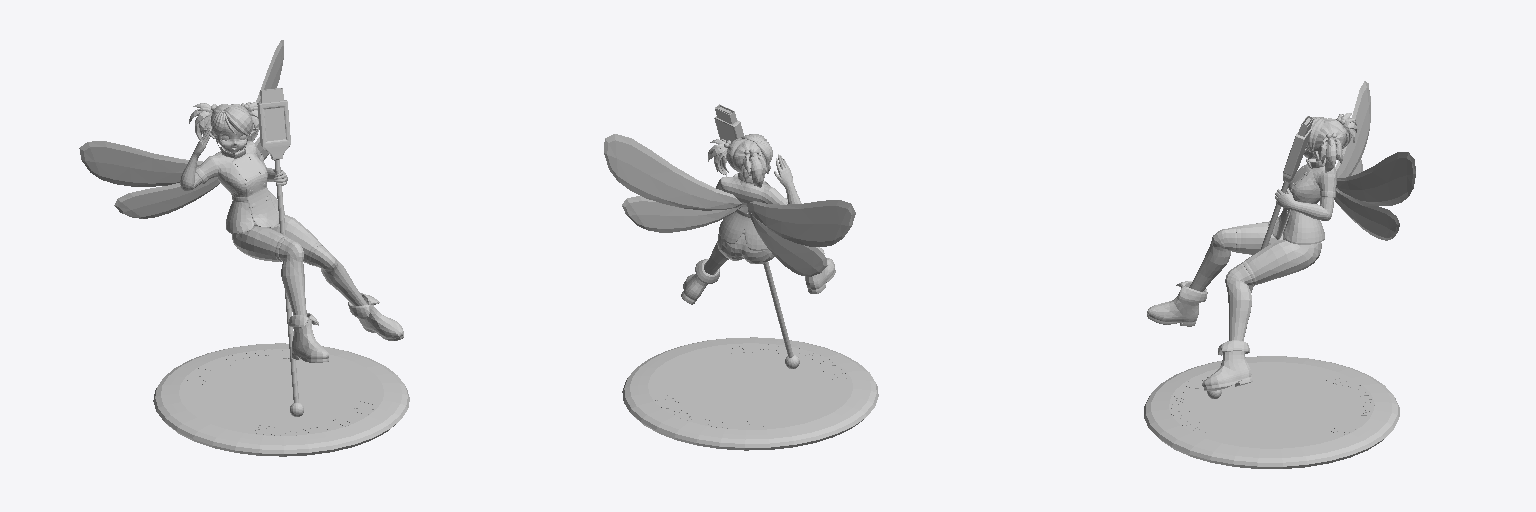
3 renders of one model, left to right at view 1: azimuth 30°, elevation 25°; view 2: azimuth 150°, elevation 25°; view 3: azimuth 270°, elevation 25°, orthographic.
Parts seen in each view (by area): view 1: 3.obj; view 2: 3.obj; view 3: 3.obj.
Boxes of the visible parts, <box> form: 3.obj: <box>79,40,409,456</box>; 3.obj: <box>604,104,878,450</box>; 3.obj: <box>1144,81,1415,468</box>.
Size of the model in its own units: 11.25 by 12.2 by 10.02.